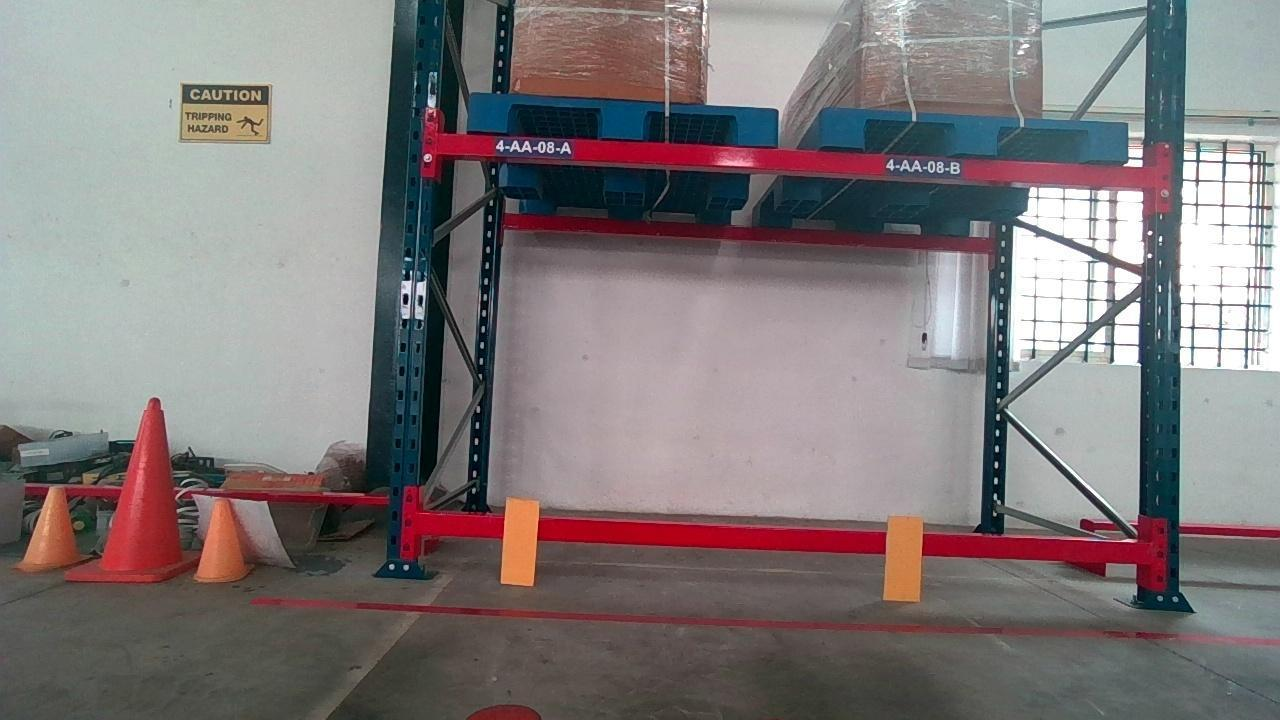h_rack: (421, 515, 1153, 566), (436, 134, 1150, 184)
orange_strip: (883, 514, 923, 599), (500, 496, 538, 582)
red_line: (356, 598, 1193, 642)
small_pallet: (826, 112, 1128, 156), (473, 98, 771, 137)
